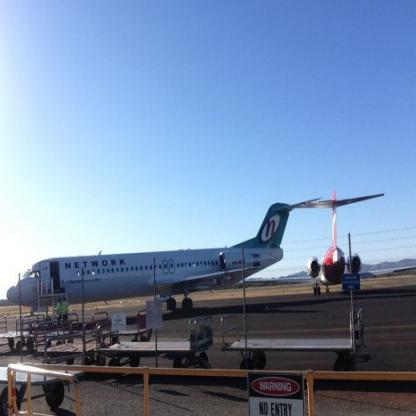CIV_Plane: (2, 188, 386, 310)
